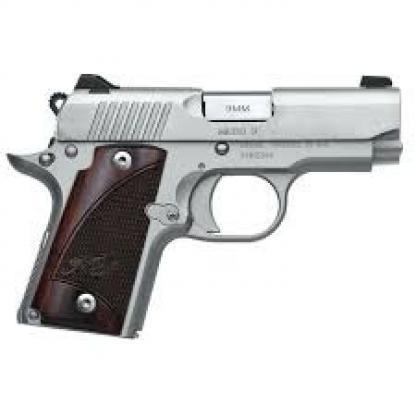Pistol: (2, 67, 400, 337)
